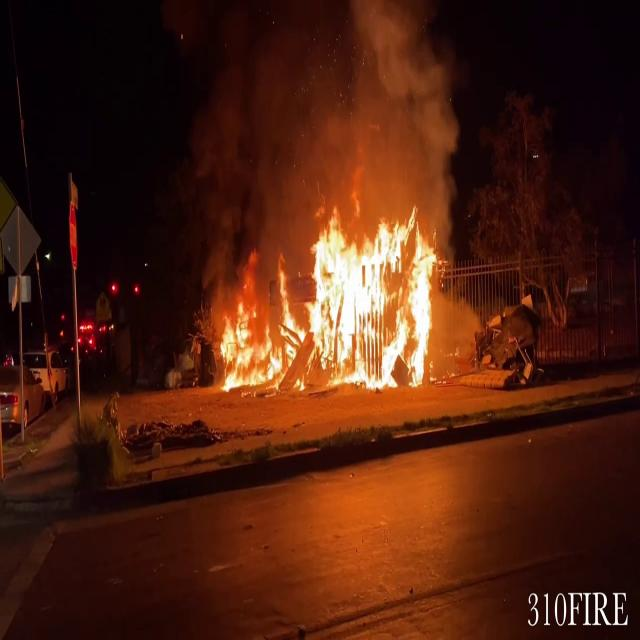Fire: (214, 190, 452, 398)
Smoke: (220, 0, 470, 214)
